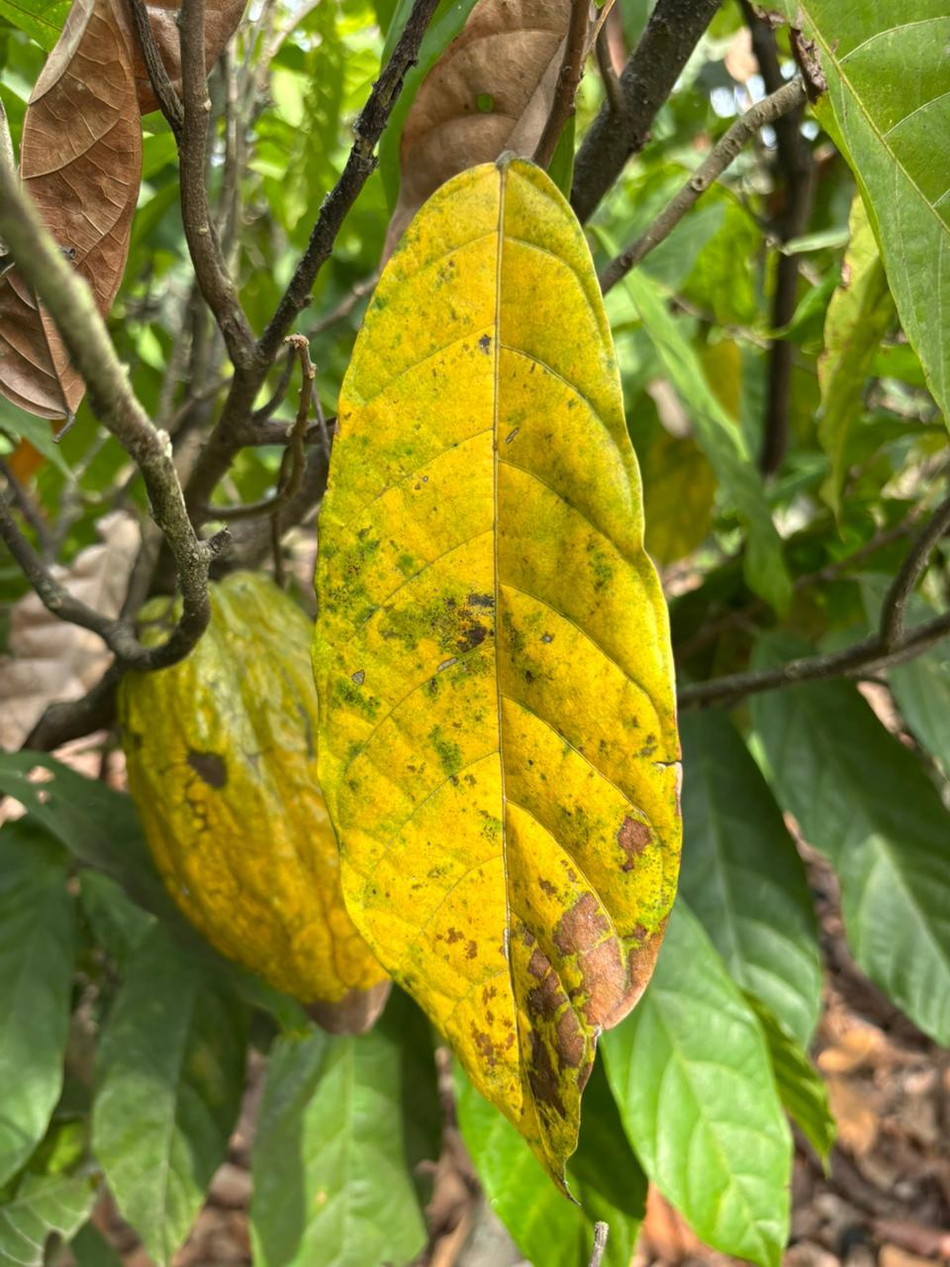Fosforo: (313, 158, 681, 1188)
